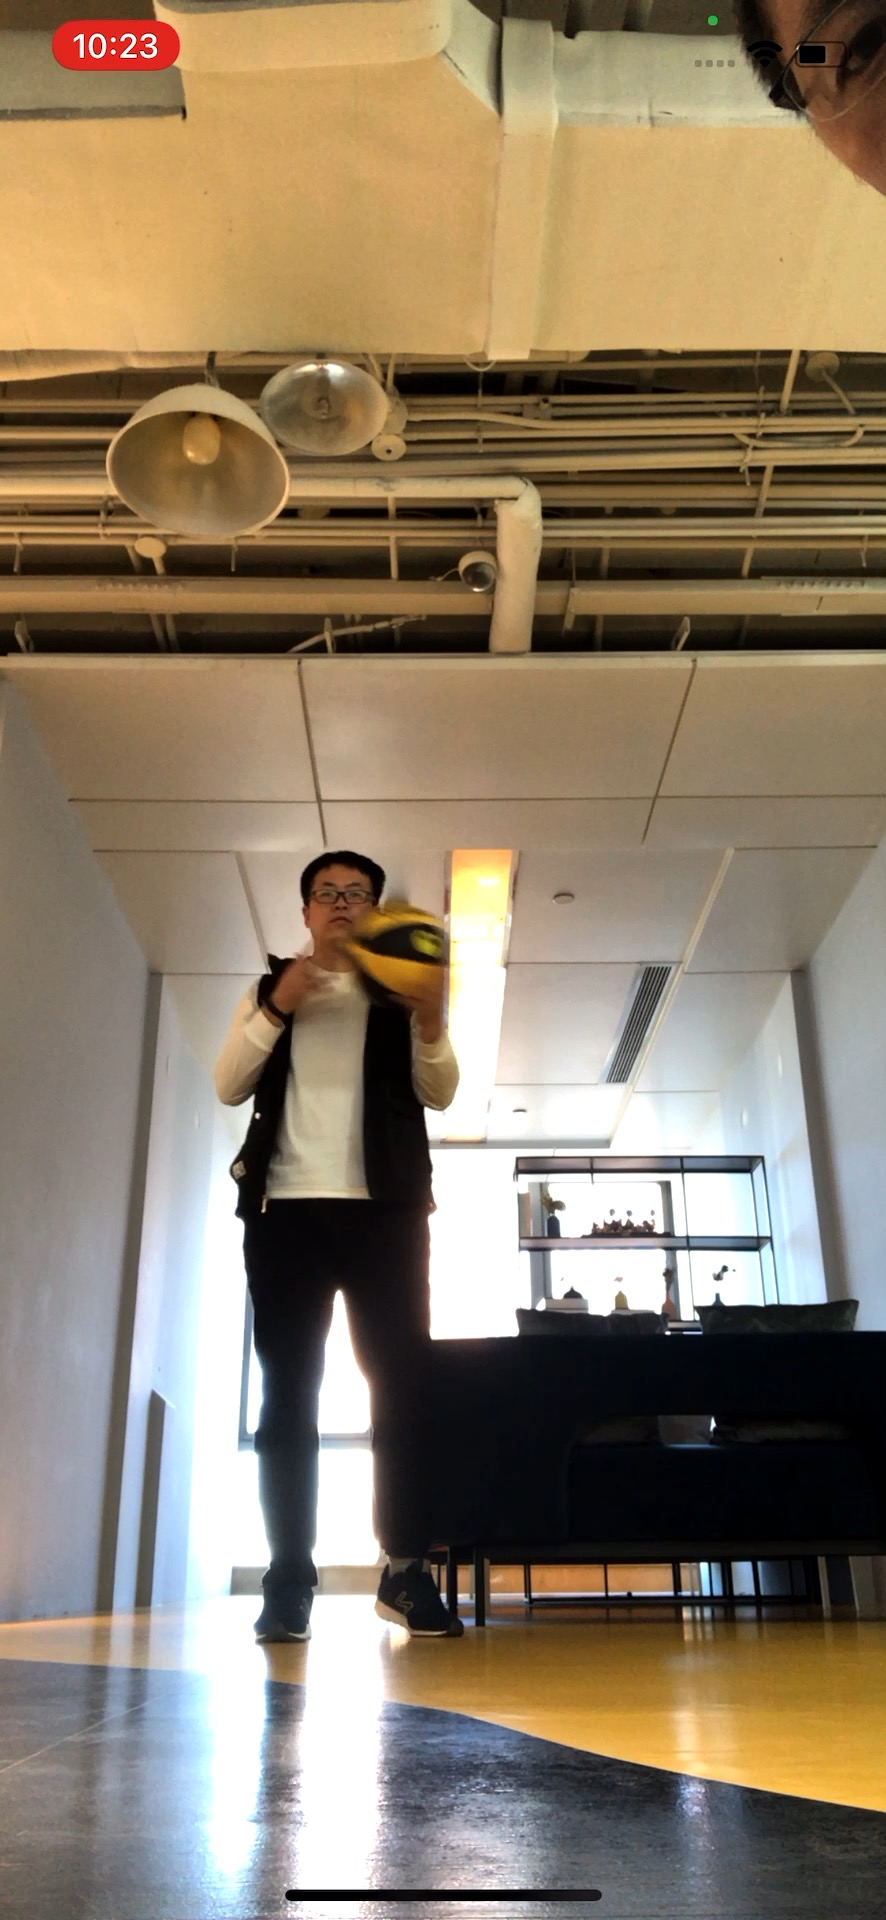ball: (355, 904, 453, 1008)
